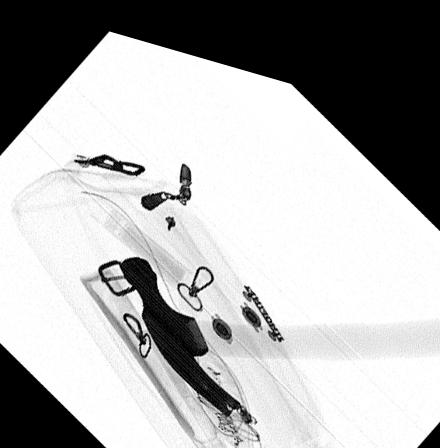Hammer: (118, 248, 440, 406)
